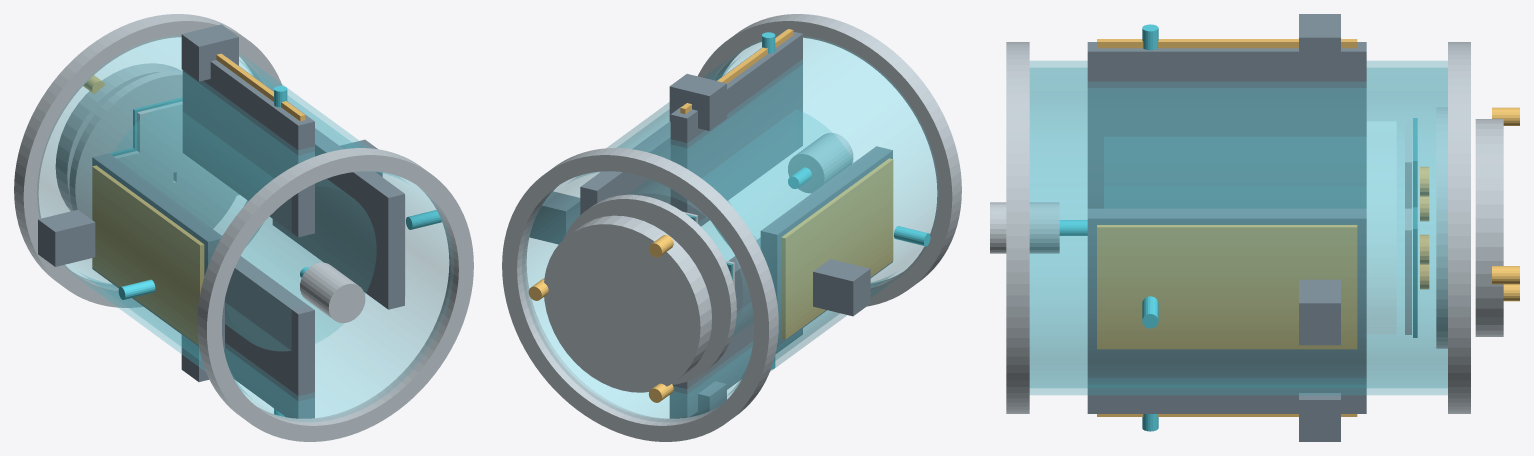
The model's file is E-FIELD-DOSE-rig.glb.
3 views of the same model, side by side, from view 1: azimuth 30°, elevation 25°; view 2: azimuth 150°, elevation 25°; view 3: azimuth 270°, elevation 25° (orthographic). The views are drawn at different scales.
Parts seen in each view (by area): view 1: shell, frame, insulator, spray, electrode, nozzle, collector; view 2: frame, shell, insulator, electrode, spray, nozzle; view 3: shell, insulator, electrode, frame, spray, nozzle, sensor, collector.
Boxes of the visible parts, x1=… form: shell: x1=37, y1=36, x2=453, y2=421; frame: x1=14, y1=14, x2=473, y2=441; insulator: x1=38, y1=24, x2=404, y2=418; spray: x1=113, y1=99, x2=376, y2=350; electrode: x1=83, y1=53, x2=405, y2=345; nozzle: x1=118, y1=86, x2=441, y2=416; collector: x1=110, y1=97, x2=182, y2=179; frame: x1=502, y1=14, x2=961, y2=441; shell: x1=522, y1=36, x2=938, y2=421; insulator: x1=529, y1=30, x2=892, y2=418; electrode: x1=528, y1=29, x2=893, y2=418; spray: x1=628, y1=110, x2=853, y2=336; nozzle: x1=762, y1=32, x2=930, y2=369; shell: x1=1029, y1=61, x2=1447, y2=394; insulator: x1=1087, y1=14, x2=1366, y2=441; electrode: x1=1097, y1=39, x2=1519, y2=416; frame: x1=990, y1=42, x2=1503, y2=413; spray: x1=1104, y1=122, x2=1395, y2=333; nozzle: x1=1059, y1=24, x2=1158, y2=431; sensor: x1=1420, y1=166, x2=1429, y2=289; collector: x1=1413, y1=118, x2=1417, y2=337.
Size of the model in its own units: 0.196 by 0.192 by 0.228.
